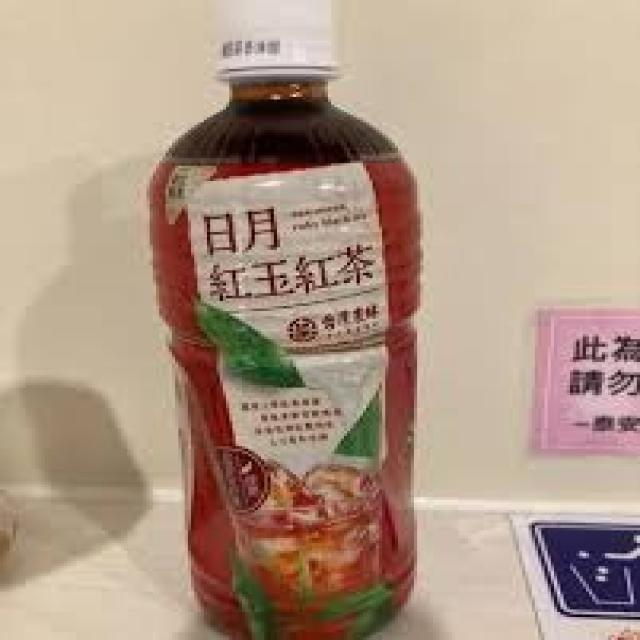RiYue_BlackTea: (148, 1, 434, 638)
